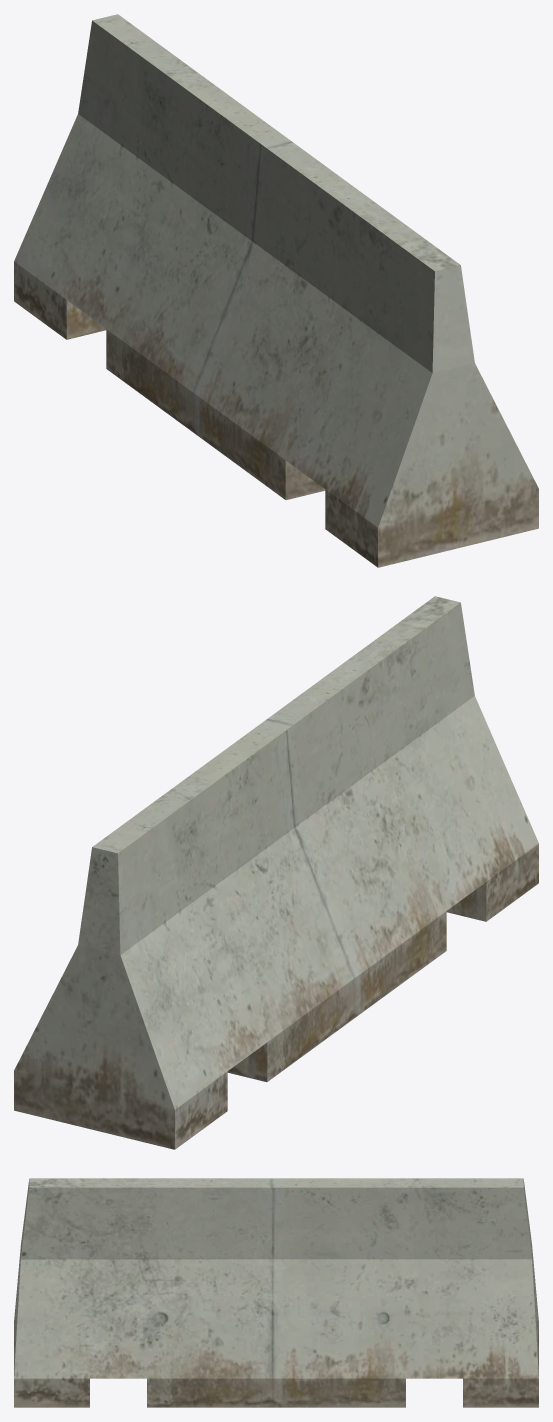
The model's file is divider.glb.
3 views of the same model, one above another, from view 1: azimuth 30°, elevation 25°; view 2: azimuth 150°, elevation 25°; view 3: azimuth 270°, elevation 25° (orthographic). The views are drawn at different scales.
Visible parts, largest first — view 1: road_divider_road_divider_0; view 2: road_divider_road_divider_0; view 3: road_divider_road_divider_0.
Part boxes in pixels (x1,y1,x2,y2): road_divider_road_divider_0: (14,14,538,567); road_divider_road_divider_0: (14,596,538,1149); road_divider_road_divider_0: (14,1178,538,1407).
Bounding box in the file's own units: 0.1976 × 0.3194 × 0.7746.
Materials: 1 (1 with a texture image).
